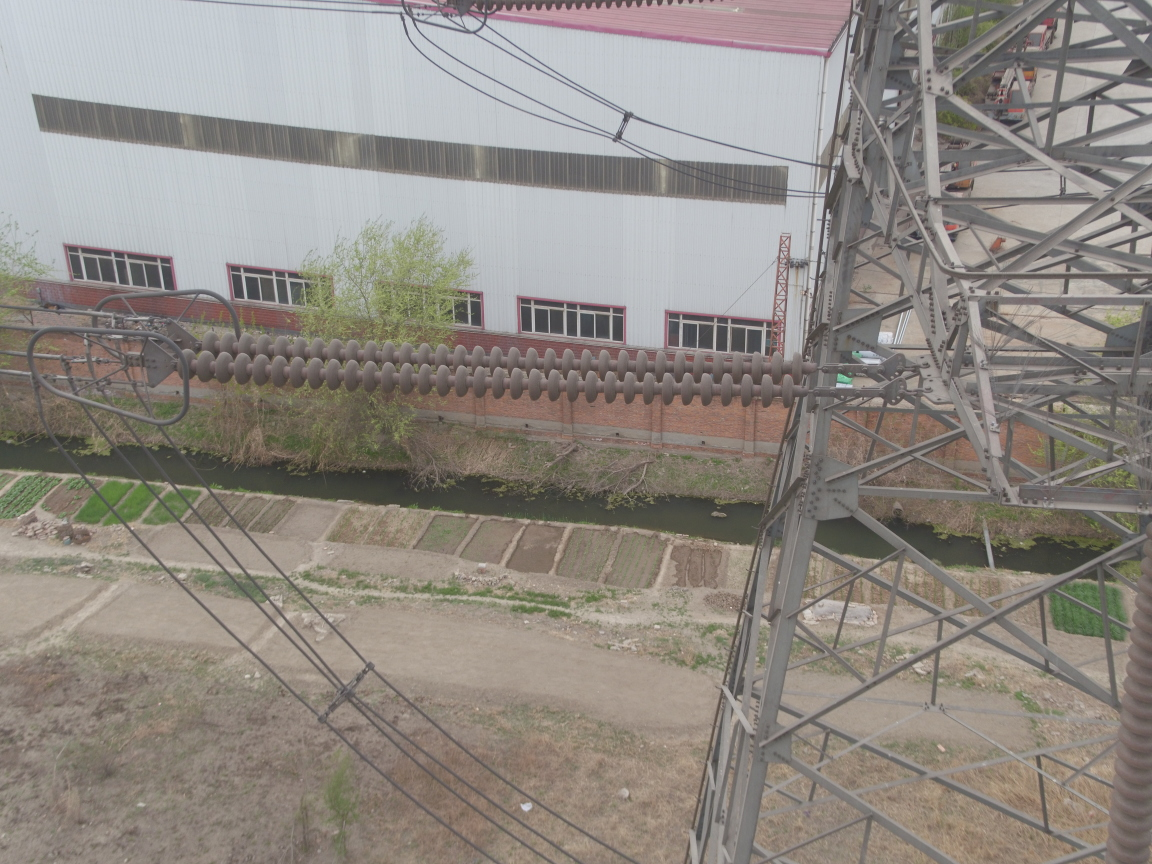insulator: (160, 320, 864, 412)
